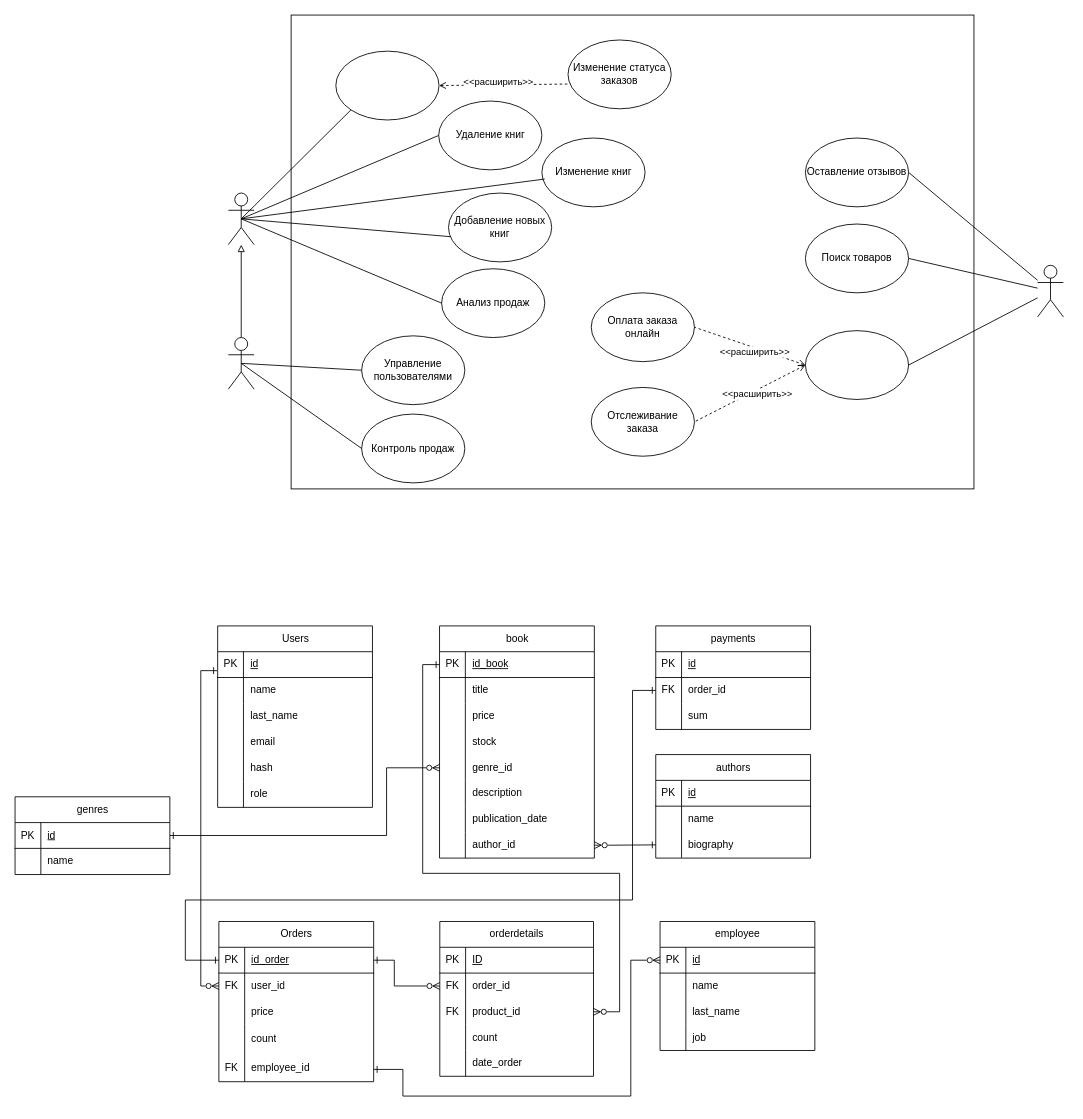
This 1083x1119 diagram has some shape labels left out. The shapes that lost their labels are listed below. From the top down, each one's centre as x and y in pixels, then its label:
At pixel 387 85: "Просмотр заказов".
At pixel 240 218: "Продавец".
At pixel 1050 290: "Клиент".
At pixel 240 363: "Администратор".
At pixel 857 364: "Оформление заказа".
